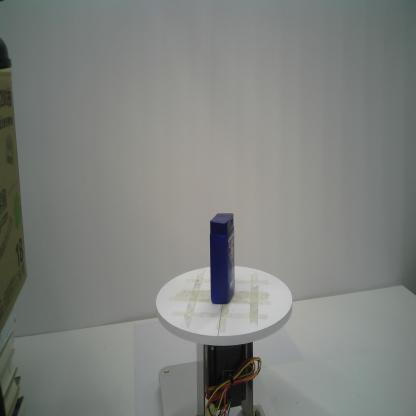Personal Hygiene: (206, 210, 238, 304)
